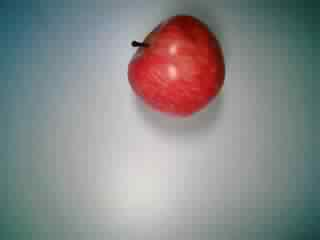apple: (125, 17, 229, 118)
